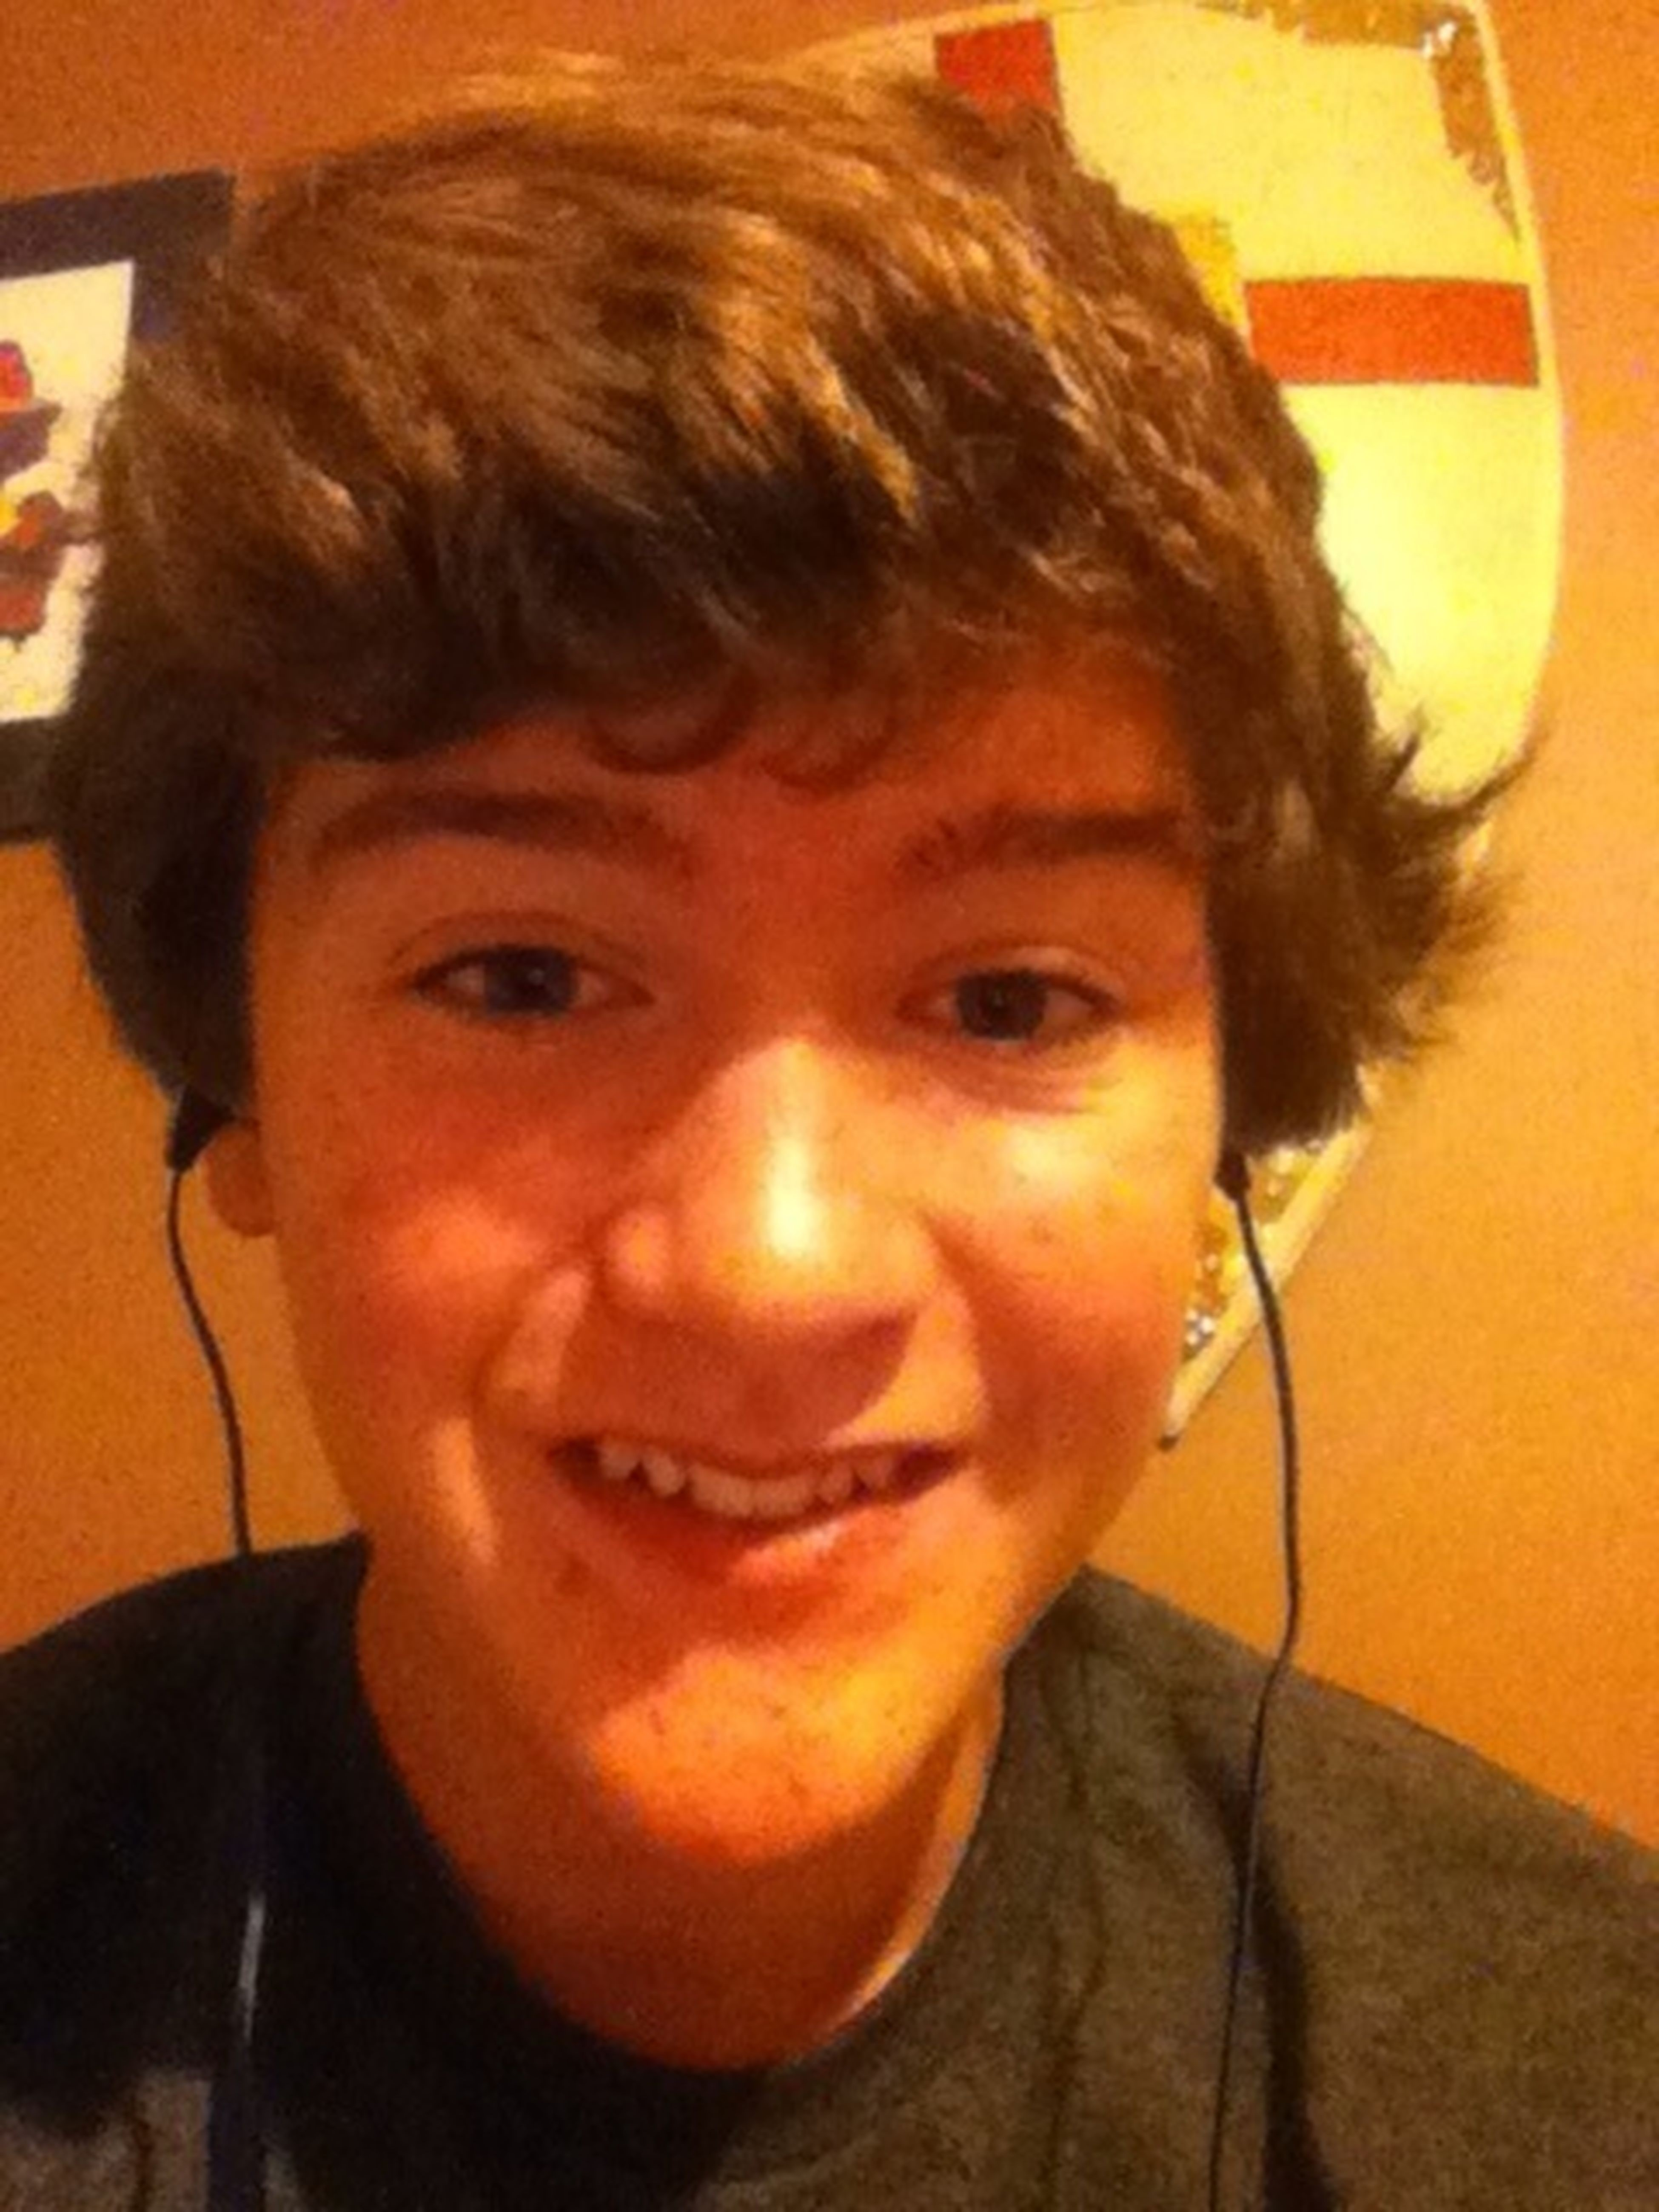face_no_mask: (124, 71, 1352, 1853)
